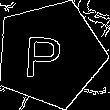P_N: (29, 28, 71, 80)
